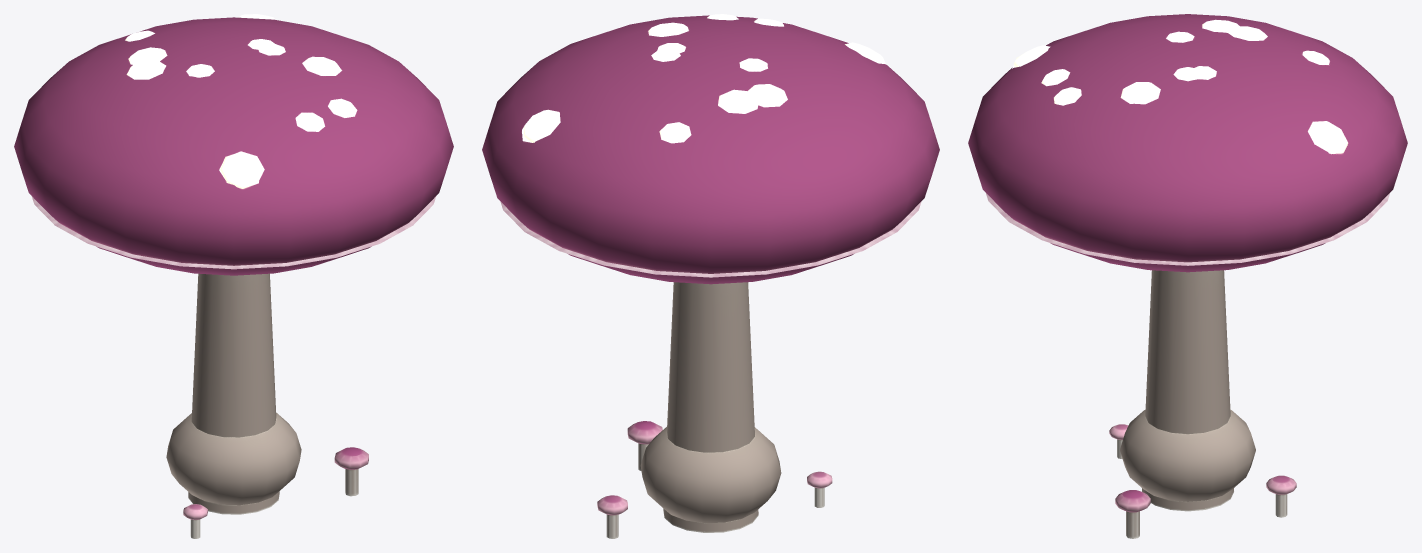
The model's file is tree_mushroom_painted.glb.
3 renders of one model, left to right at view 1: azimuth 30°, elevation 25°; view 2: azimuth 150°, elevation 25°; view 3: azimuth 270°, elevation 25°, orthographic. The views are drawn at different scales.
Parts seen in each view (by area): view 1: TreeMushroom; view 2: TreeMushroom; view 3: TreeMushroom.
Boxes of the visible parts, x1,y1,x2,y2 form: TreeMushroom: (14,14,453,538); TreeMushroom: (482,14,939,538); TreeMushroom: (968,14,1407,538).
Size of the model in its own units: 4 by 4.43 by 4.
Materials: 4 (3 with a texture image).
